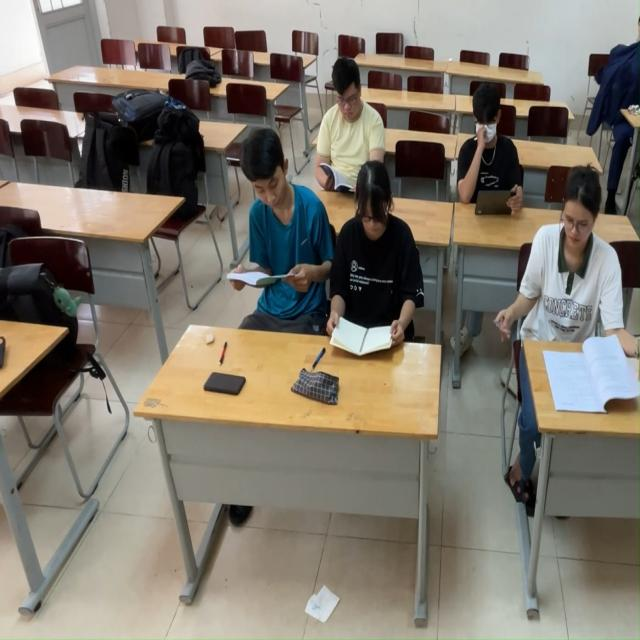read: (529, 181, 640, 421), (227, 142, 327, 335), (340, 175, 425, 370), (456, 86, 526, 228), (323, 69, 381, 196)
